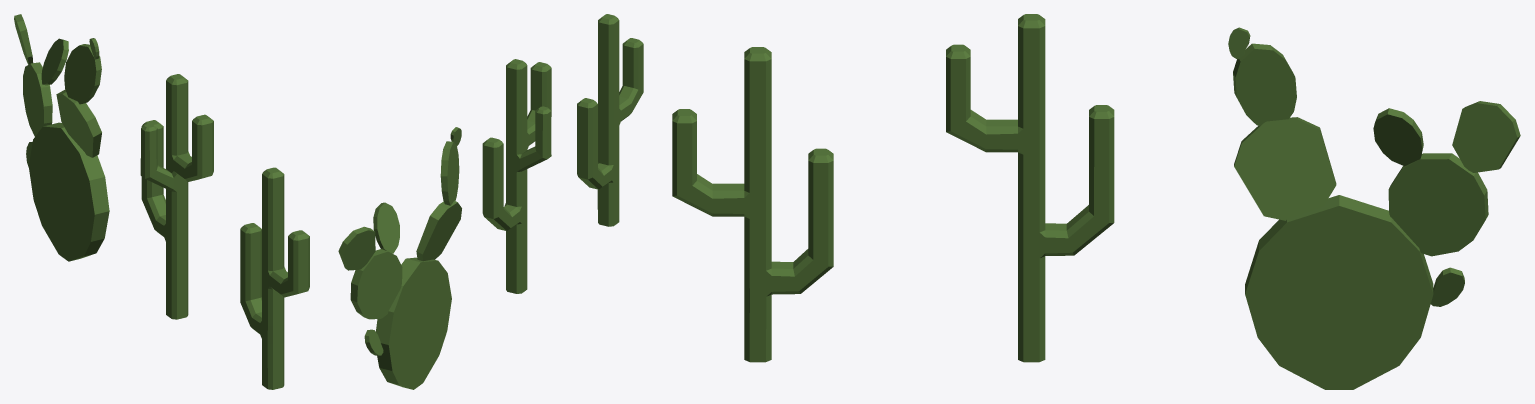
File: aus cacti.fbx
3 renders of one model, left to right at view 1: azimuth 30°, elevation 25°; view 2: azimuth 150°, elevation 25°; view 3: azimuth 270°, elevation 25°, orthographic. The views are drawn at different scales.
Parts seen in each view (by area): view 1: Cube, Cube.001, Cube.002; view 2: Cube, Cube.001, Cube.002; view 3: Cube, Cube.001, Cube.002.
Part boxes in pixels (x1,y1,x2,y2): Cube: [14, 14, 109, 261]; Cube.001: [140, 74, 213, 319]; Cube.002: [240, 167, 309, 389]; Cube: [338, 127, 461, 389]; Cube.001: [482, 59, 551, 293]; Cube.002: [577, 14, 643, 226]; Cube: [1228, 27, 1520, 389]; Cube.001: [946, 14, 1114, 362]; Cube.002: [672, 47, 833, 362].
Size of the model in its own units: 620 by 2981 by 6214.
